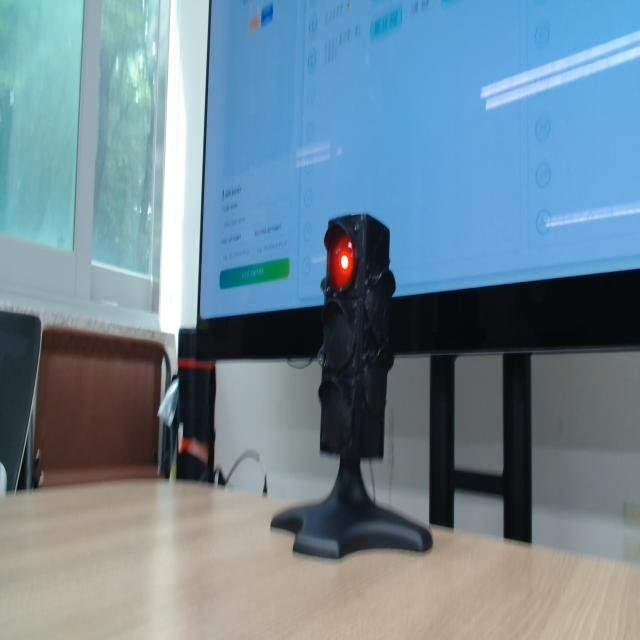red_light: (328, 227, 355, 291)
